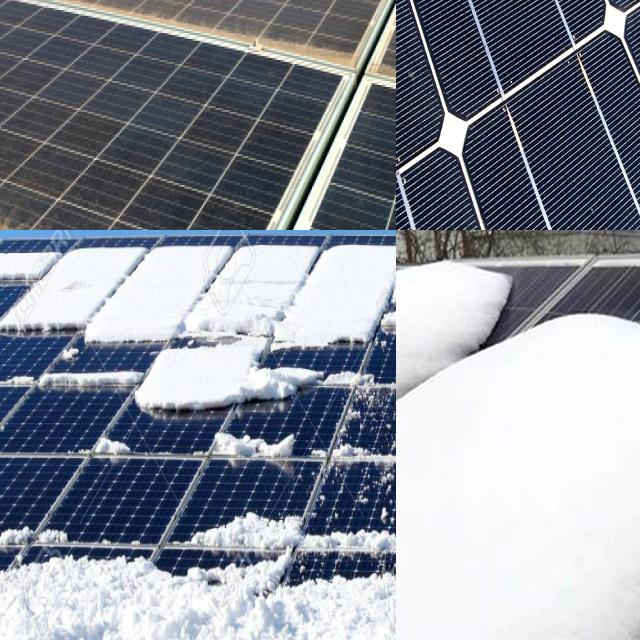crack: (421, 18, 640, 230), (396, 0, 616, 168), (525, 0, 640, 139)
dust: (175, 0, 356, 90), (0, 0, 165, 49), (0, 190, 87, 230)
panel: (0, 505, 185, 640), (184, 494, 320, 628), (122, 236, 198, 416), (0, 241, 113, 353), (231, 240, 321, 356), (326, 374, 396, 493), (539, 270, 619, 356), (329, 240, 384, 358), (343, 505, 396, 610), (208, 422, 309, 469), (4, 360, 119, 400), (446, 235, 532, 282), (474, 292, 526, 359), (92, 429, 162, 476), (206, 238, 231, 343)
